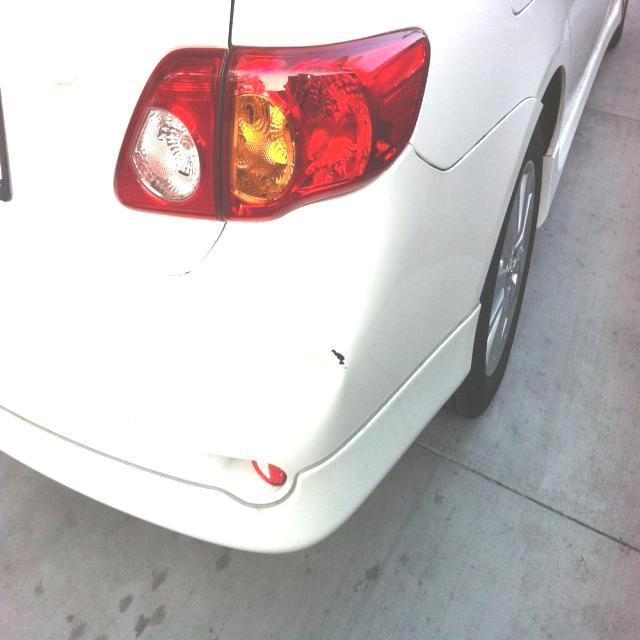minor: (166, 201, 363, 458)
